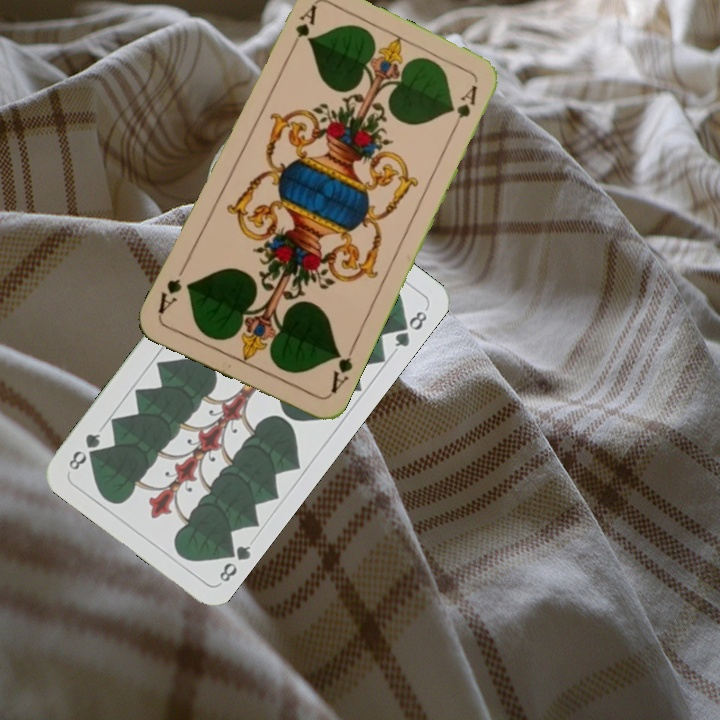G8: (215, 539, 254, 585)
GA: (284, 2, 319, 57), (325, 342, 357, 396)
